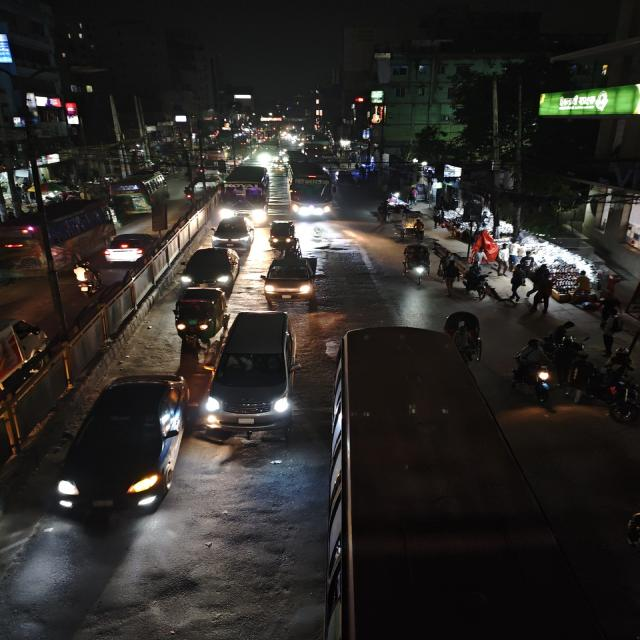bus: (319, 325, 530, 640), (1, 197, 120, 265), (285, 156, 336, 221), (220, 164, 271, 218), (112, 169, 168, 214)
car: (56, 371, 190, 525), (208, 308, 302, 436), (175, 245, 241, 290), (102, 230, 163, 266), (208, 214, 256, 248)
cng: (170, 287, 226, 344), (268, 218, 300, 248)
motorcycle: (509, 337, 554, 405), (604, 384, 640, 428), (461, 257, 495, 302), (69, 260, 102, 296)
pedestrian: (530, 262, 555, 314), (598, 308, 625, 356), (437, 253, 463, 293), (508, 261, 528, 301), (410, 219, 428, 243)
pickup_van: (262, 254, 316, 302)
rickshaw: (442, 309, 487, 361), (399, 242, 433, 287)
